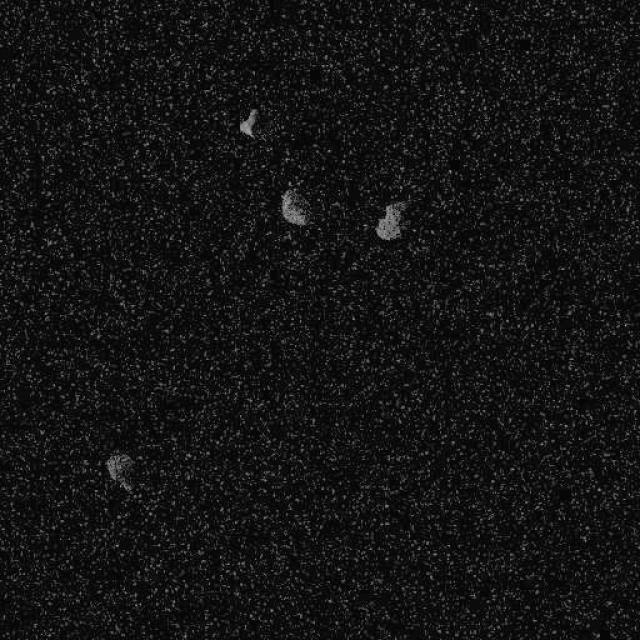D2: (374, 200, 406, 241), (105, 451, 135, 494), (279, 188, 310, 226), (238, 106, 258, 138)
